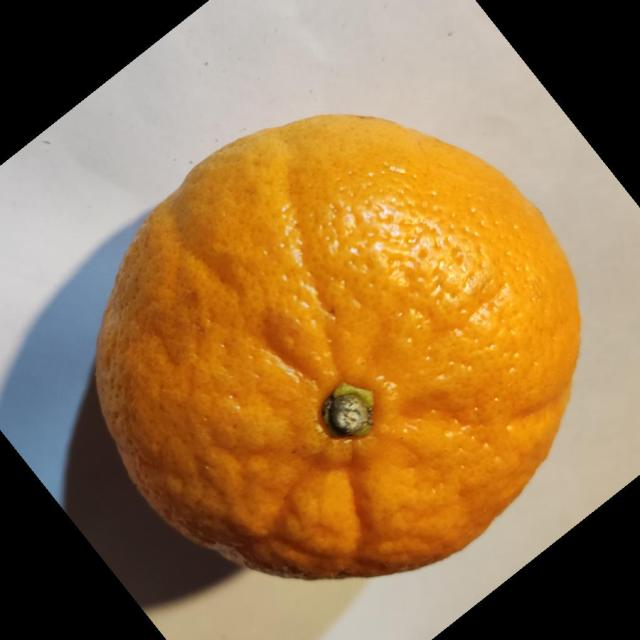fresh orange: (93, 112, 582, 581)
